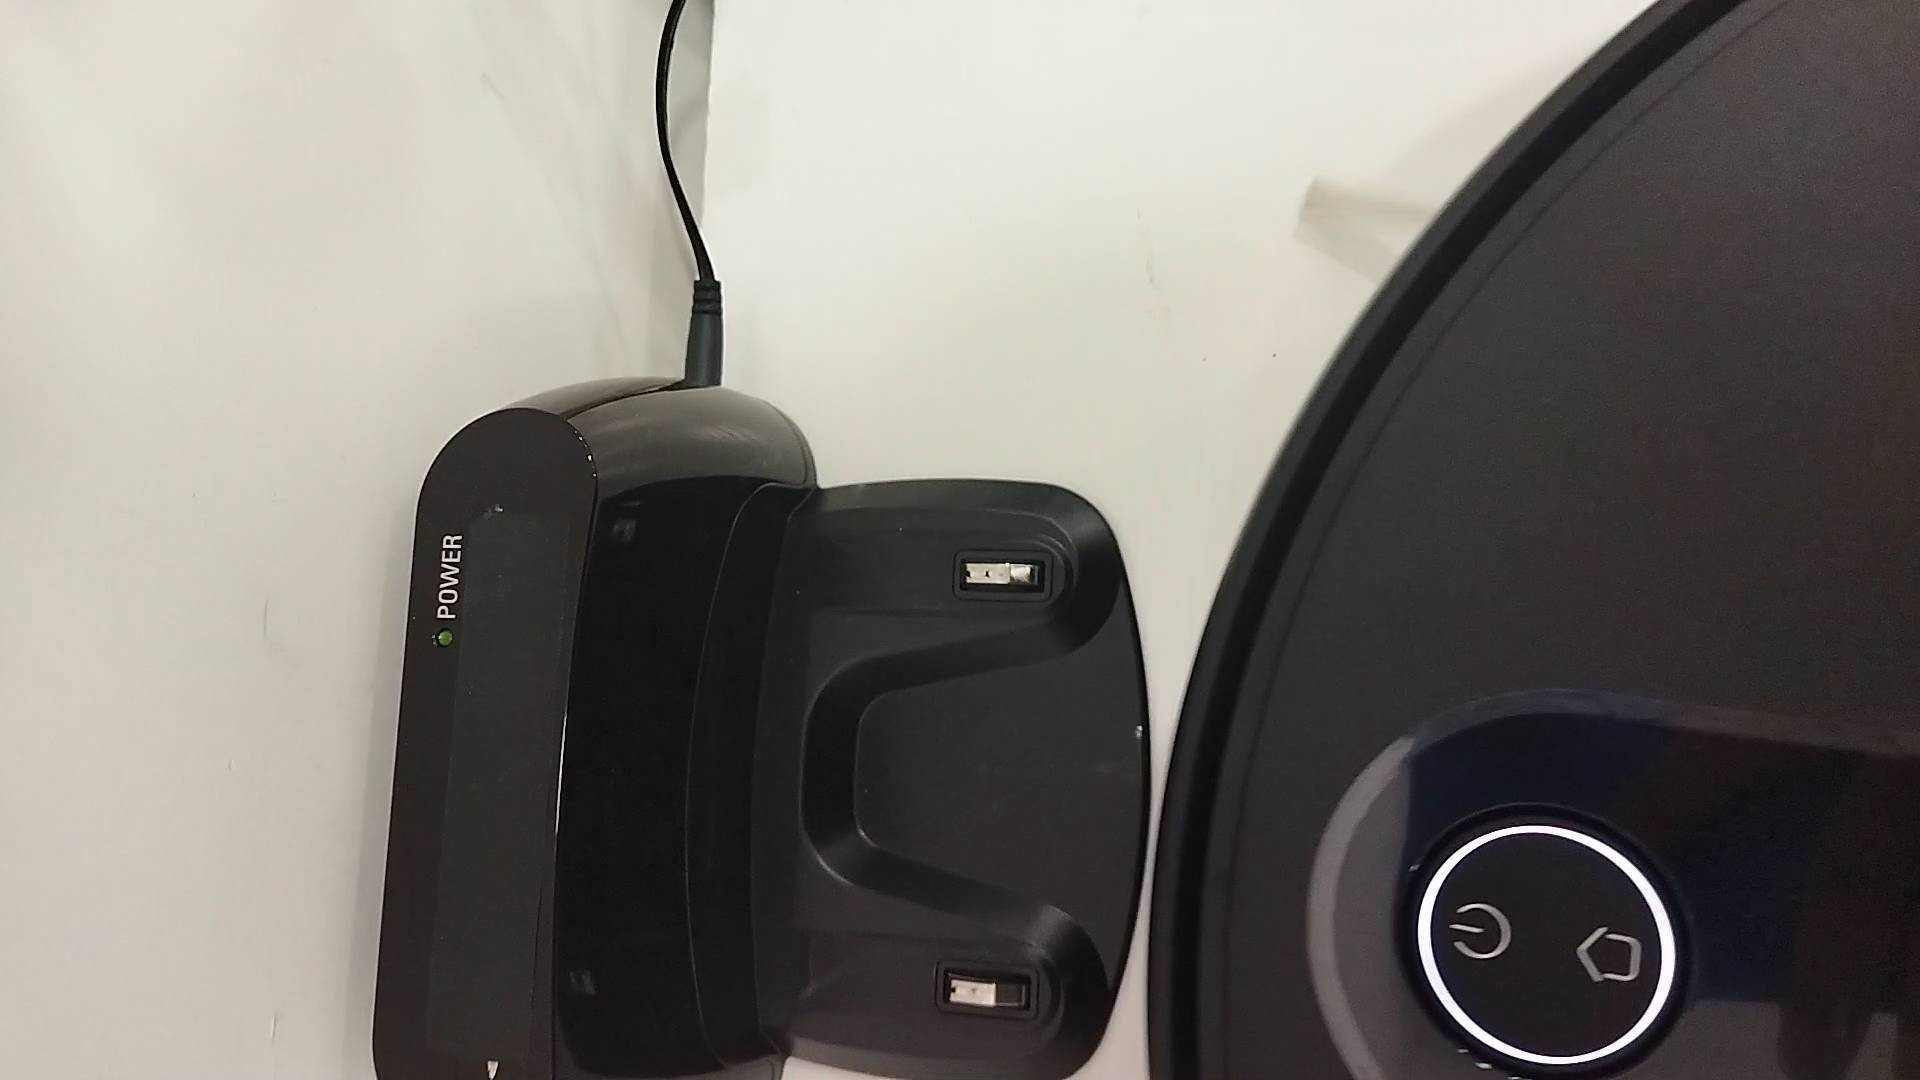recharge seat: (367, 378, 1155, 1080)
